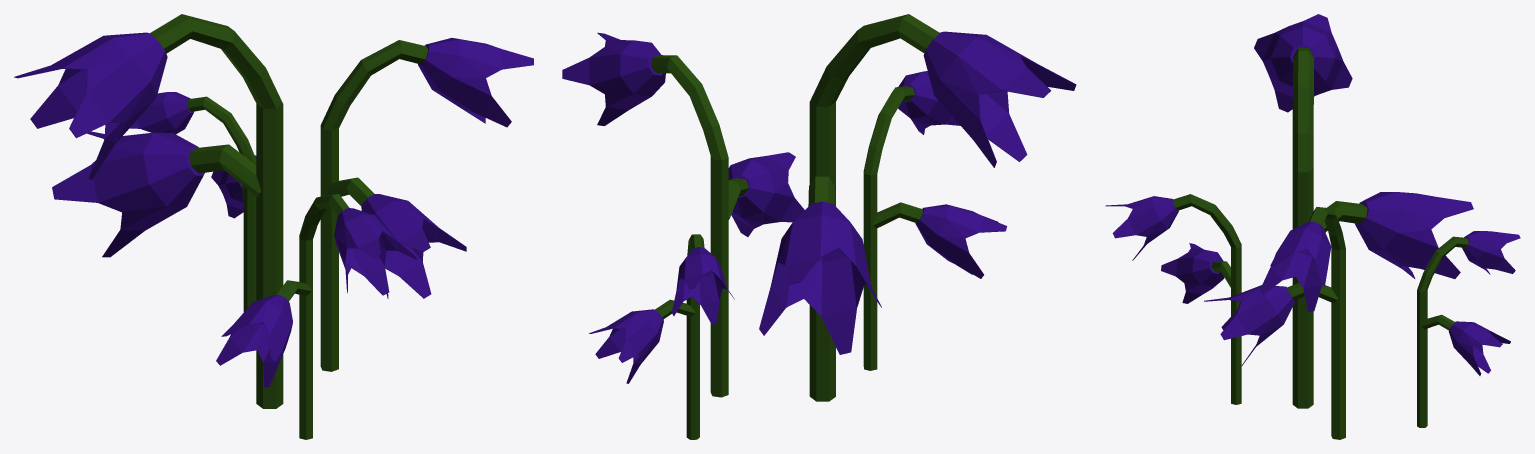
The picture shows the model from 3 angles, left to right: view 1: azimuth 30°, elevation 25°; view 2: azimuth 150°, elevation 25°; view 3: azimuth 270°, elevation 25°; orthographic projection. The views are drawn at different scales.
Visible parts, largest first — view 1: Bell_flowers_Circle.004; view 2: Bell_flowers_Circle.004; view 3: Bell_flowers_Circle.004.
Part boxes in pixels (x1=…): Bell_flowers_Circle.004: x1=14, y1=14, x2=533, y2=439; Bell_flowers_Circle.004: x1=562, y1=14, x2=1076, y2=439; Bell_flowers_Circle.004: x1=1105, y1=14, x2=1520, y2=439.
Bounding box in the file's own units: 1.4 × 1.1 × 1.29.
